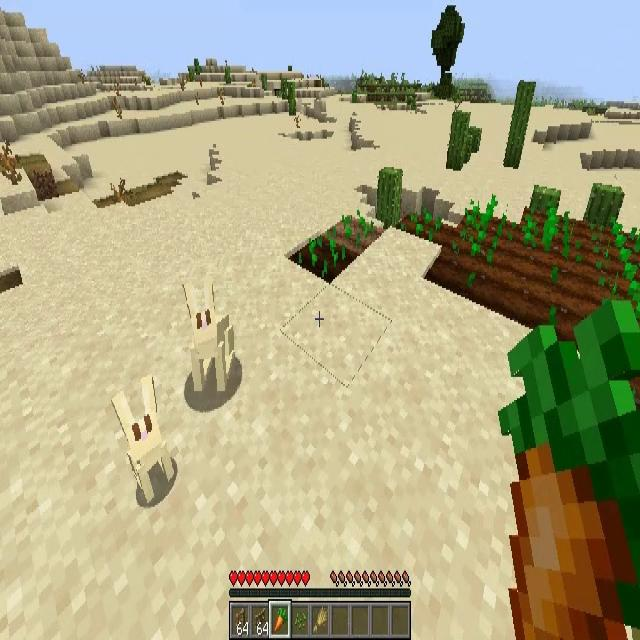rabbit: (116, 381, 175, 496), (183, 284, 234, 392)
